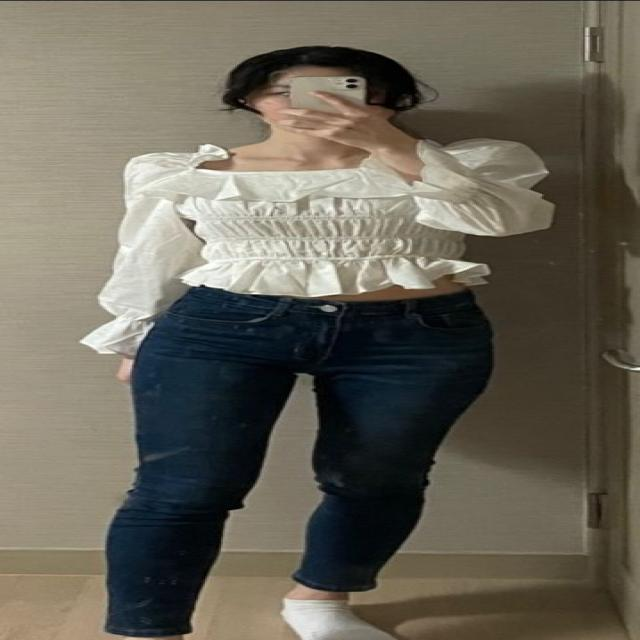denimpants: (99, 287, 494, 633)
shirt: (86, 140, 540, 363)
